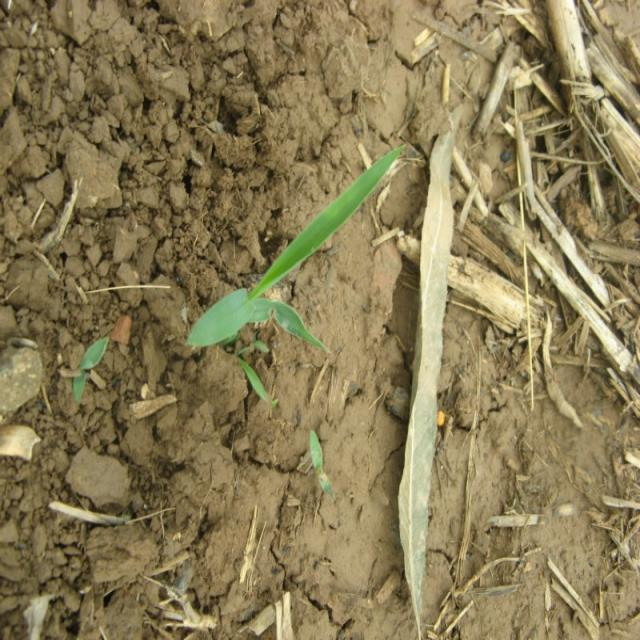bg: (186, 140, 401, 356)
